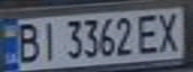2: (115, 14, 136, 57)
3: (60, 17, 84, 61), (78, 16, 100, 60)
6: (100, 15, 118, 58)
B: (9, 20, 42, 64)
E: (136, 11, 163, 55)
I: (36, 19, 60, 62)
X: (154, 8, 187, 54)
